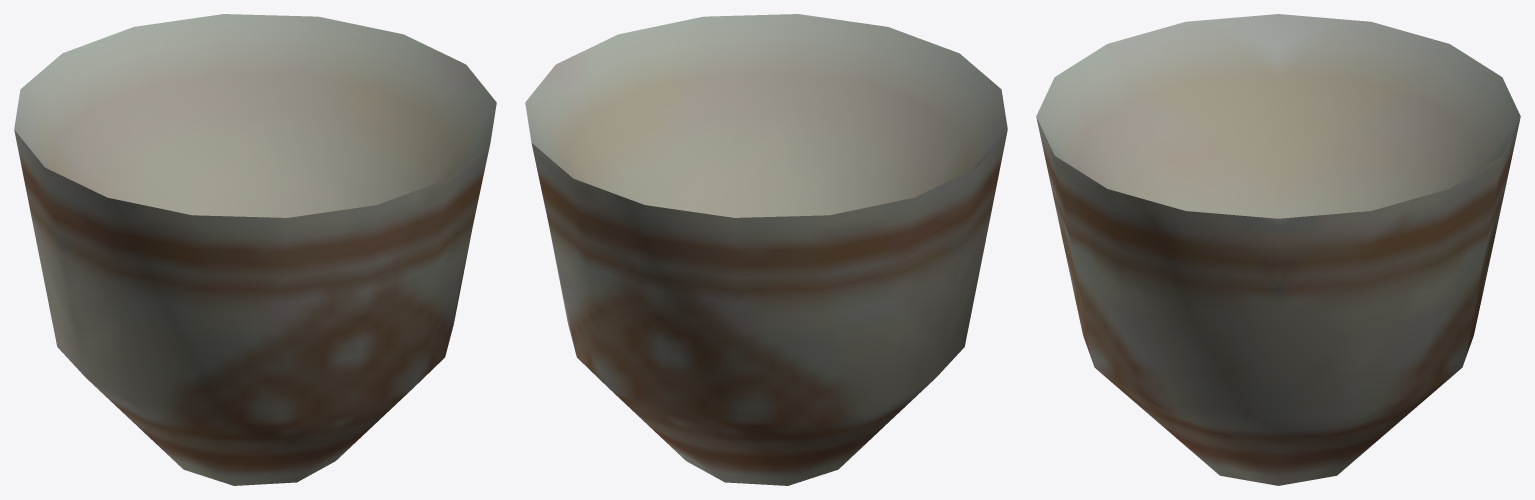
Rendered from Teacup.glb.
3 views of the same model, side by side, from view 1: azimuth 30°, elevation 25°; view 2: azimuth 150°, elevation 25°; view 3: azimuth 270°, elevation 25° (orthographic).
Parts seen in each view (by area): view 1: Indoor_Ly_Prop_Cup_01_Vo; view 2: Indoor_Ly_Prop_Cup_01_Vo; view 3: Indoor_Ly_Prop_Cup_01_Vo.
Boxes of the visible parts, left/top/right/bottom form: Indoor_Ly_Prop_Cup_01_Vo: left=14, top=14, right=496, bottom=485; Indoor_Ly_Prop_Cup_01_Vo: left=525, top=14, right=1007, bottom=485; Indoor_Ly_Prop_Cup_01_Vo: left=1036, top=14, right=1520, bottom=485.
Bounding box in the file's own units: 0.0832 × 0.0634 × 0.0832.
1 material, 1 textured.
